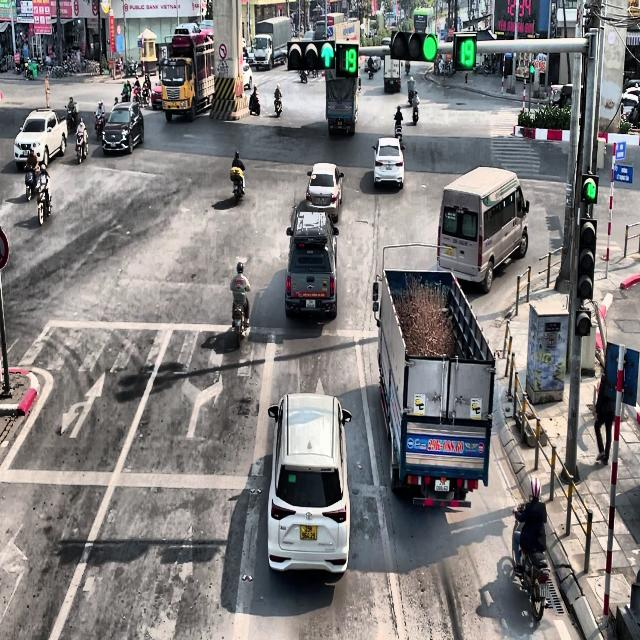lisence_plate: (406, 434, 486, 457), (299, 523, 317, 541), (434, 478, 450, 493), (452, 237, 468, 247), (304, 297, 316, 309), (445, 247, 454, 256), (386, 164, 394, 172), (318, 196, 326, 204), (336, 120, 343, 126), (390, 81, 394, 85)
